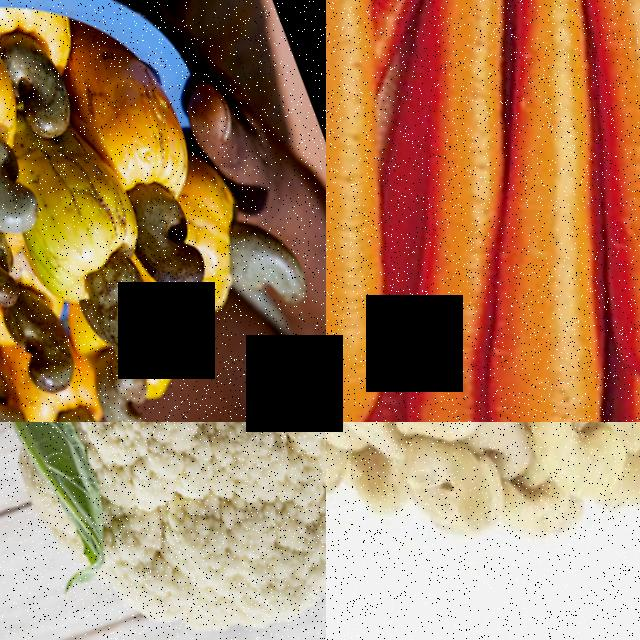carrot: (326, 0, 442, 422), (537, 51, 640, 360), (449, 276, 640, 422)
cashew: (384, 422, 521, 550), (111, 173, 223, 317), (58, 247, 178, 377), (0, 2, 95, 154), (209, 193, 316, 326), (503, 422, 613, 507), (74, 349, 177, 422), (383, 422, 509, 462), (0, 207, 35, 319), (0, 332, 42, 422)
cauliflower: (0, 422, 326, 640)
